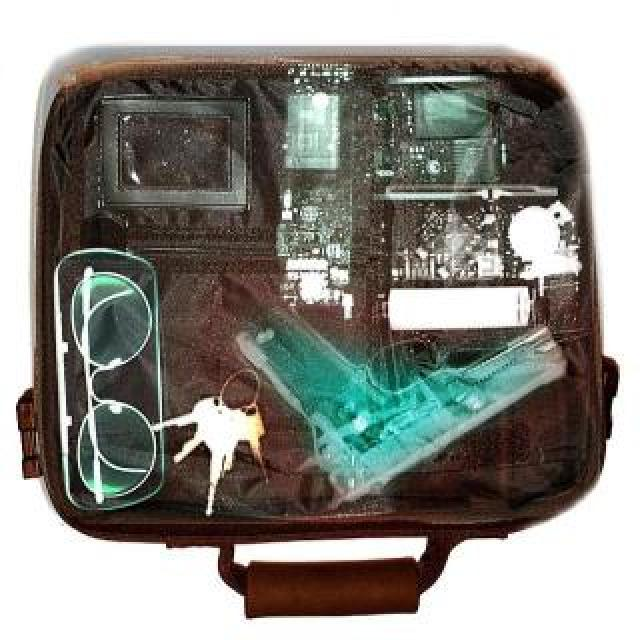gun: (232, 296, 578, 504)
